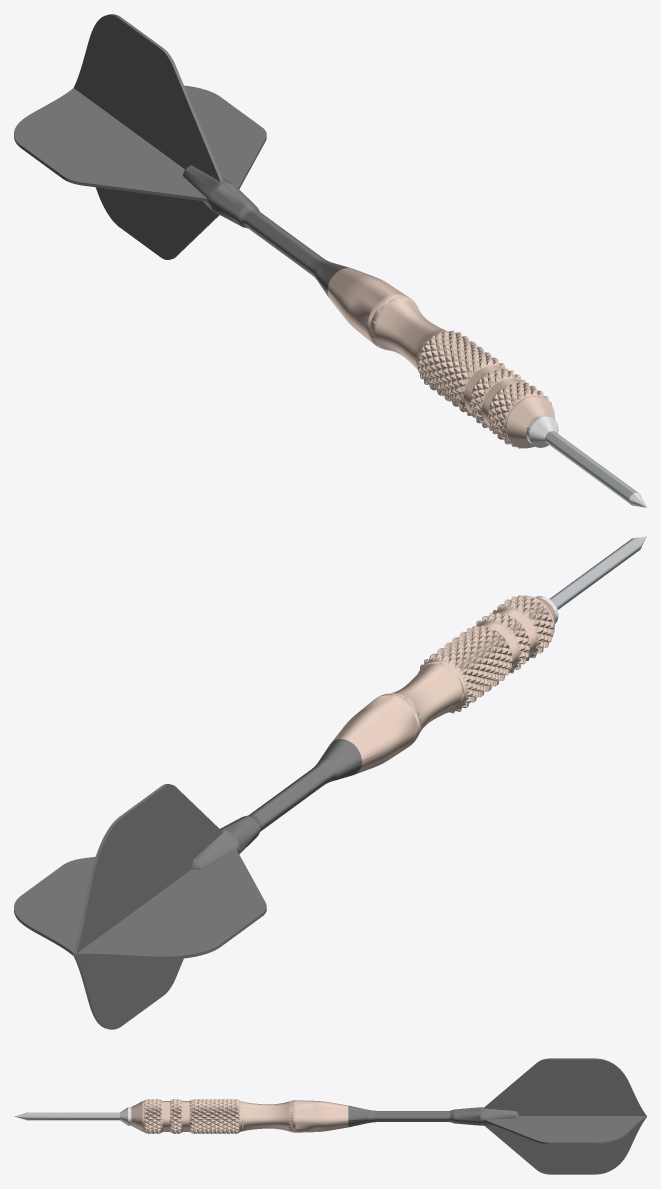
File: dart.fbx
The picture shows the model from 3 angles, top to bottom: view 1: azimuth 30°, elevation 25°; view 2: azimuth 150°, elevation 25°; view 3: azimuth 270°, elevation 25°; orthographic projection. The views are drawn at different scales.
Visible parts, largest first — view 1: Wing1, Wing2, Body, Tail, Head; view 2: Wing1, Wing2, Body, Tail, Head; view 3: Wing1, Body, Wing2, Tail, Head.
Boxes of the visible parts, <box> form: Wing1: <box>73,14,223,259</box>; Wing2: <box>14,85,266,201</box>; Body: <box>327,268,554,448</box>; Tail: <box>182,165,349,297</box>; Head: <box>526,414,646,507</box>; Wing1: <box>73,784,222,1029</box>; Wing2: <box>14,849,266,959</box>; Body: <box>332,595,555,774</box>; Tail: <box>192,739,361,869</box>; Head: <box>536,536,646,623</box>; Wing1: <box>484,1058,646,1174</box>; Body: <box>131,1099,348,1133</box>; Wing2: <box>484,1115,646,1144</box>; Tail: <box>348,1105,518,1127</box>; Head: <box>14,1107,131,1125</box>.
Bounding box in the file's own units: 6.98 × 6.98 × 34.74.
